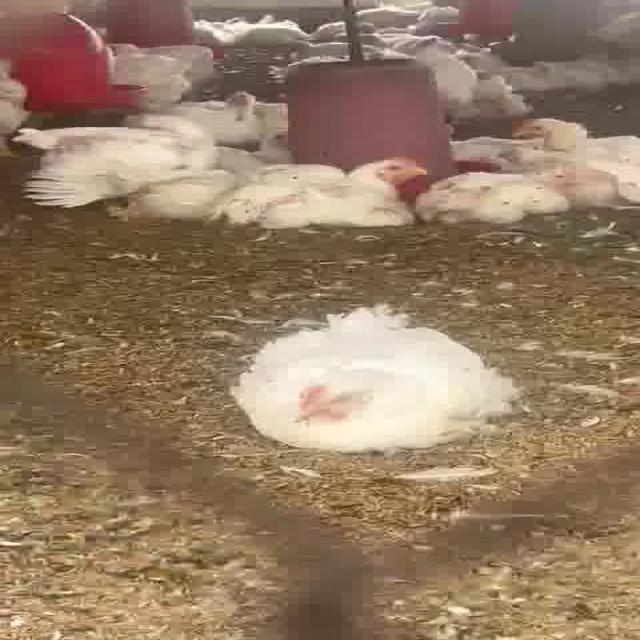AbNormal: (214, 312, 498, 454), (208, 156, 438, 230), (413, 163, 599, 218), (508, 115, 638, 163)
